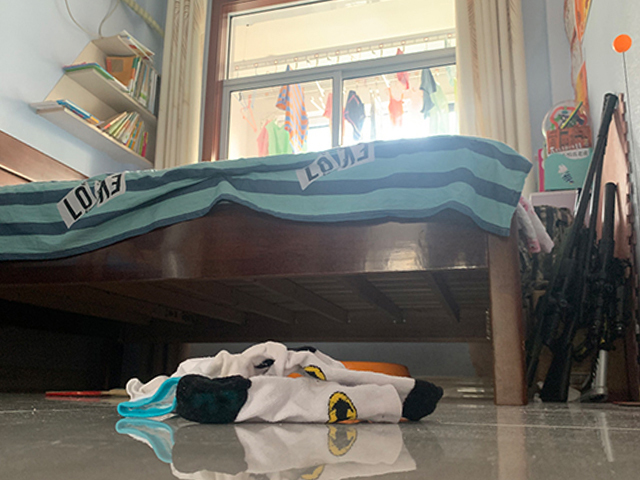bed: (1, 130, 551, 406)
socks: (175, 384, 404, 425)
